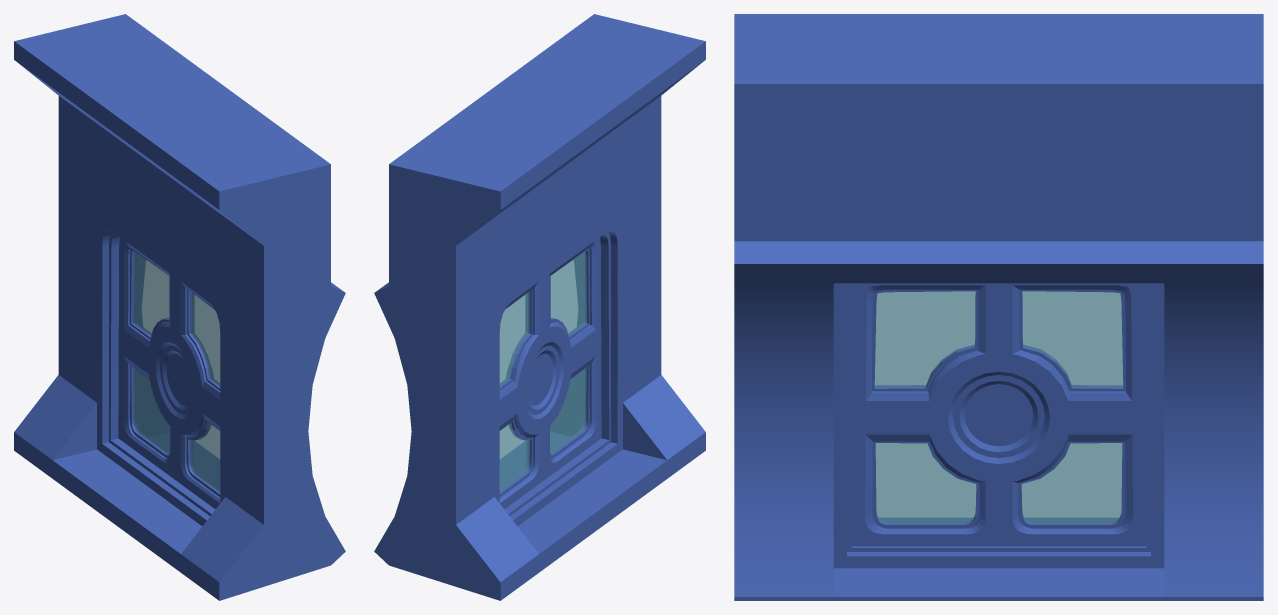
The model's file is RoundCorr_Wall_Door_A.FBX.
3 renders of one model, left to right at view 1: azimuth 30°, elevation 25°; view 2: azimuth 150°, elevation 25°; view 3: azimuth 270°, elevation 25°, orthographic. The views are drawn at different scales.
Parts seen in each view (by area): view 1: RoundCorr_Wall_Door_A, RoundCorr_Wall_Door_A_Right, RoundCorr_Wall_Door_A_Left; view 2: RoundCorr_Wall_Door_A, RoundCorr_Wall_Door_A_Left, RoundCorr_Wall_Door_A_Right; view 3: RoundCorr_Wall_Door_A, RoundCorr_Wall_Door_A_Right, RoundCorr_Wall_Door_A_Left.
Part boxes in pixels (<box>): RoundCorr_Wall_Door_A: <box>14,14,345,600</box>; RoundCorr_Wall_Door_A_Right: <box>118,237,192,479</box>; RoundCorr_Wall_Door_A_Left: <box>175,278,220,509</box>; RoundCorr_Wall_Door_A: <box>374,14,705,600</box>; RoundCorr_Wall_Door_A_Left: <box>540,237,601,479</box>; RoundCorr_Wall_Door_A_Right: <box>499,278,553,509</box>; RoundCorr_Wall_Door_A: <box>734,14,1263,600</box>; RoundCorr_Wall_Door_A_Right: <box>964,283,1146,546</box>; RoundCorr_Wall_Door_A_Left: <box>851,283,998,546</box>.
Bounding box in the file's own units: 142 × 440 × 400.
